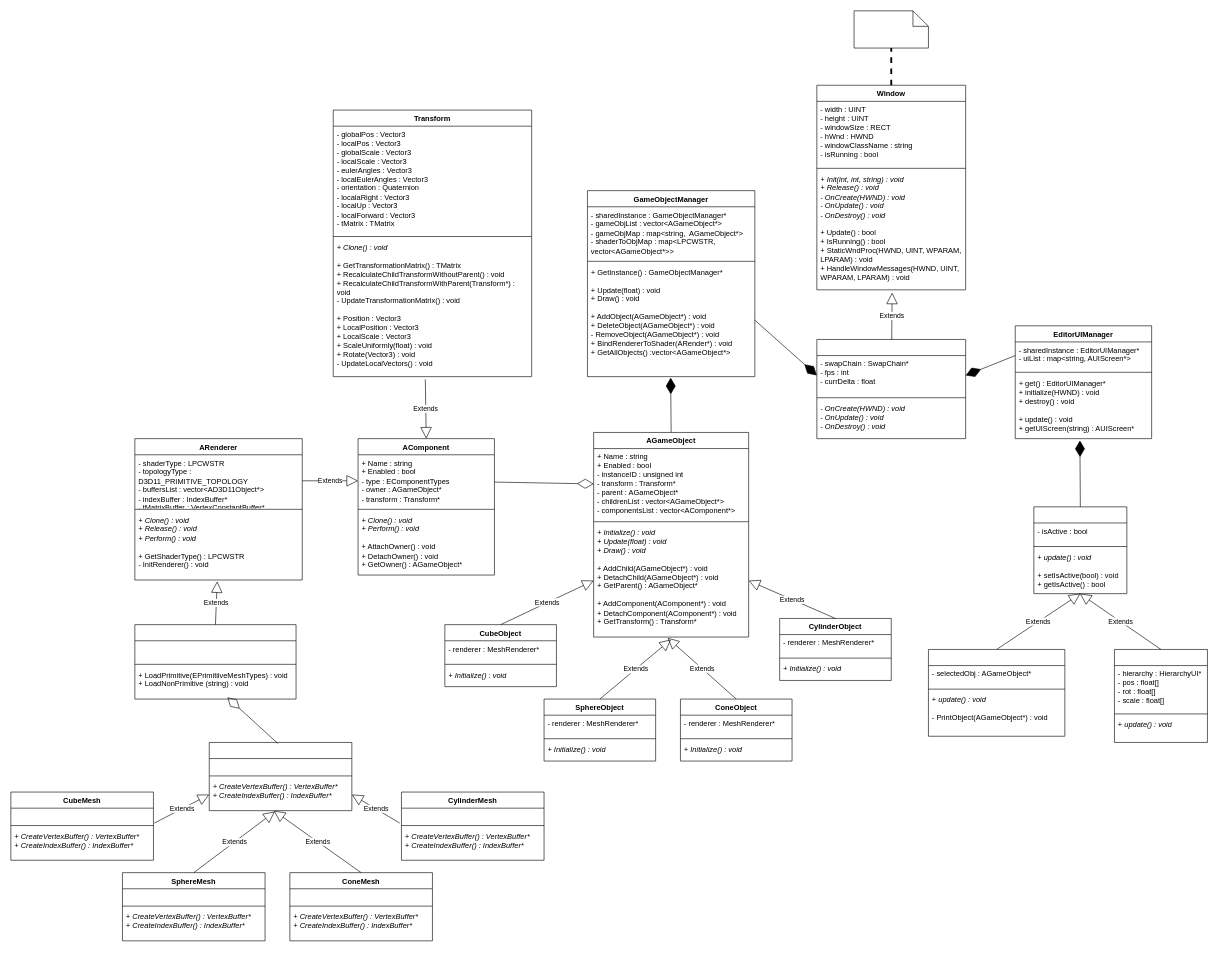
Image size: 1218x954. Some labels were removed from this diagram. The shapes that lost their labels are listed below. From the top down, each one's box as (x1, y1, x2, y2) in pixels, then its label:
(853, 10, 928, 48): START HERE
(816, 339, 966, 439): GameEngineWindow
(1033, 506, 1127, 594): AUIScreen
(134, 624, 296, 699): MeshRenderer
(928, 649, 1065, 736): HierarchyUI
(1114, 649, 1207, 742): InspectorUI
(209, 742, 352, 811): AMesh
